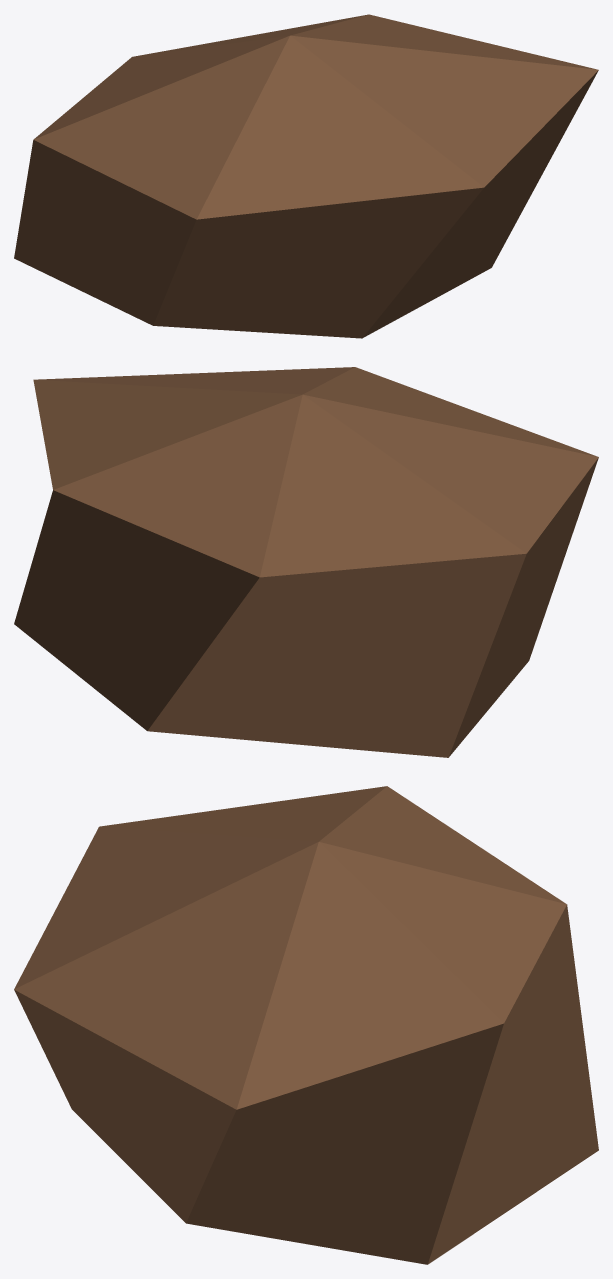
File: buckbrush-far.glb
3 renders of one model, top to bottom at view 1: azimuth 30°, elevation 25°; view 2: azimuth 150°, elevation 25°; view 3: azimuth 270°, elevation 25°, orthographic. The views are drawn at different scales.
Visible parts, largest first — view 1: buckbrush-far / foliage; view 2: buckbrush-far / foliage; view 3: buckbrush-far / foliage.
Boxes of the visible parts, <box> form: buckbrush-far / foliage: <box>14,14,598,338</box>; buckbrush-far / foliage: <box>14,367,598,757</box>; buckbrush-far / foliage: <box>14,786,598,1264</box>.
Bounding box in the file's own units: 1.37 × 0.7705 × 1.08.
